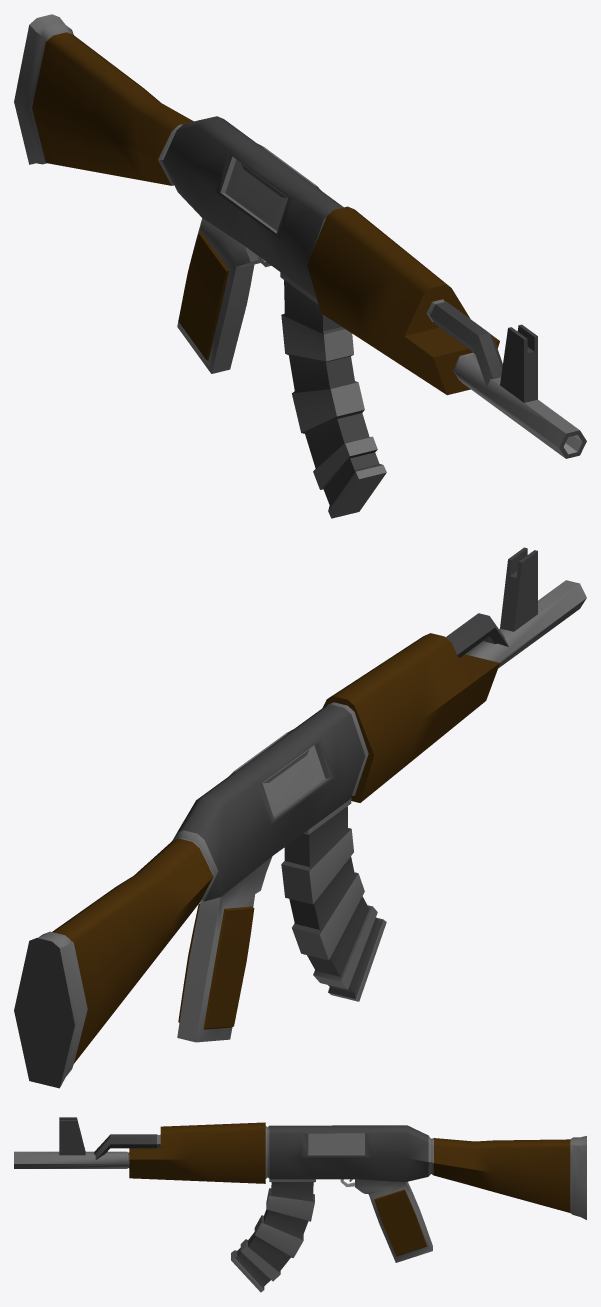
File: 13-Woodland-rifle.glb
3 views of the same model, one above another, from view 1: azimuth 30°, elevation 25°; view 2: azimuth 150°, elevation 25°; view 3: azimuth 270°, elevation 25° (orthographic). The views are drawn at different scales.
Parts seen in each view (by area): view 1: Woodland rifle; view 2: Woodland rifle; view 3: Woodland rifle.
Part boxes in pixels (x1,y1,x2,y2): Woodland rifle: [14, 14, 586, 518]; Woodland rifle: [14, 547, 586, 1088]; Woodland rifle: [14, 1117, 586, 1292].
Size of the model in its own units: 0.0673 by 0.3009 by 0.92.
1 material, 1 textured.
